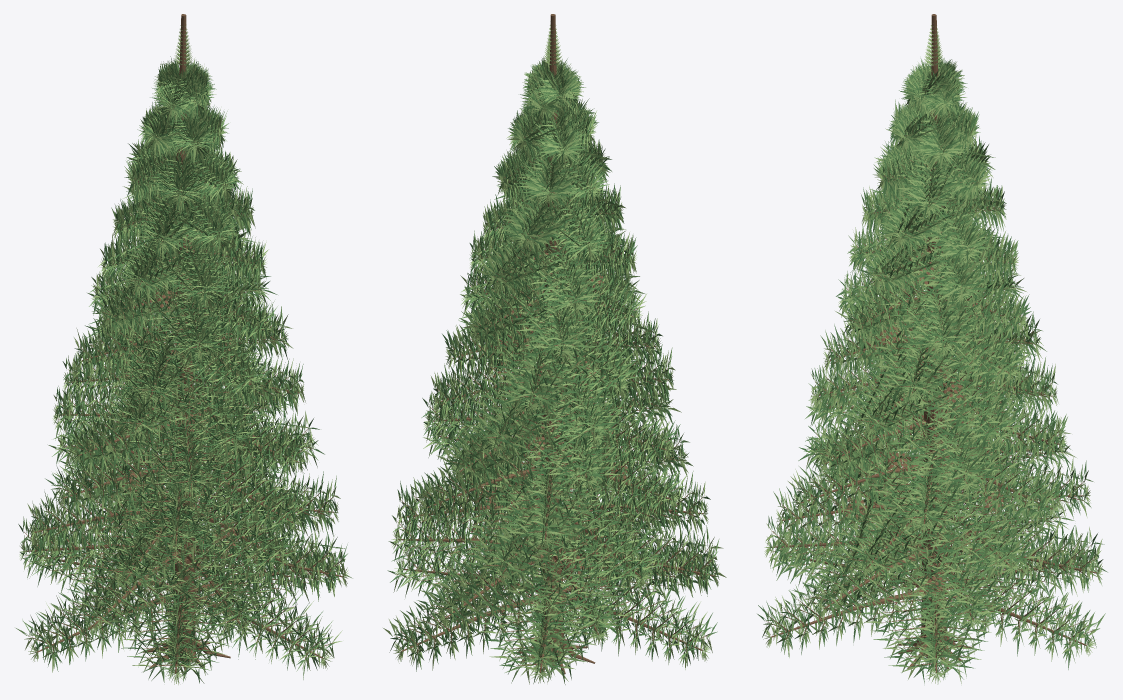
File: spruce-tree.glb
The picture shows the model from 3 angles, left to right: view 1: azimuth 30°, elevation 25°; view 2: azimuth 150°, elevation 25°; view 3: azimuth 270°, elevation 25°; orthographic projection.
Parts seen in each view (by area): view 1: spruce-tree; view 2: spruce-tree; view 3: spruce-tree.
Part boxes in pixels (left/top/right/bottom): spruce-tree: left=16, top=14, right=352, bottom=684; spruce-tree: left=383, top=14, right=726, bottom=684; spruce-tree: left=757, top=14, right=1107, bottom=684.
Bounding box in the file's own units: 1.8 × 3.6 × 1.8.
